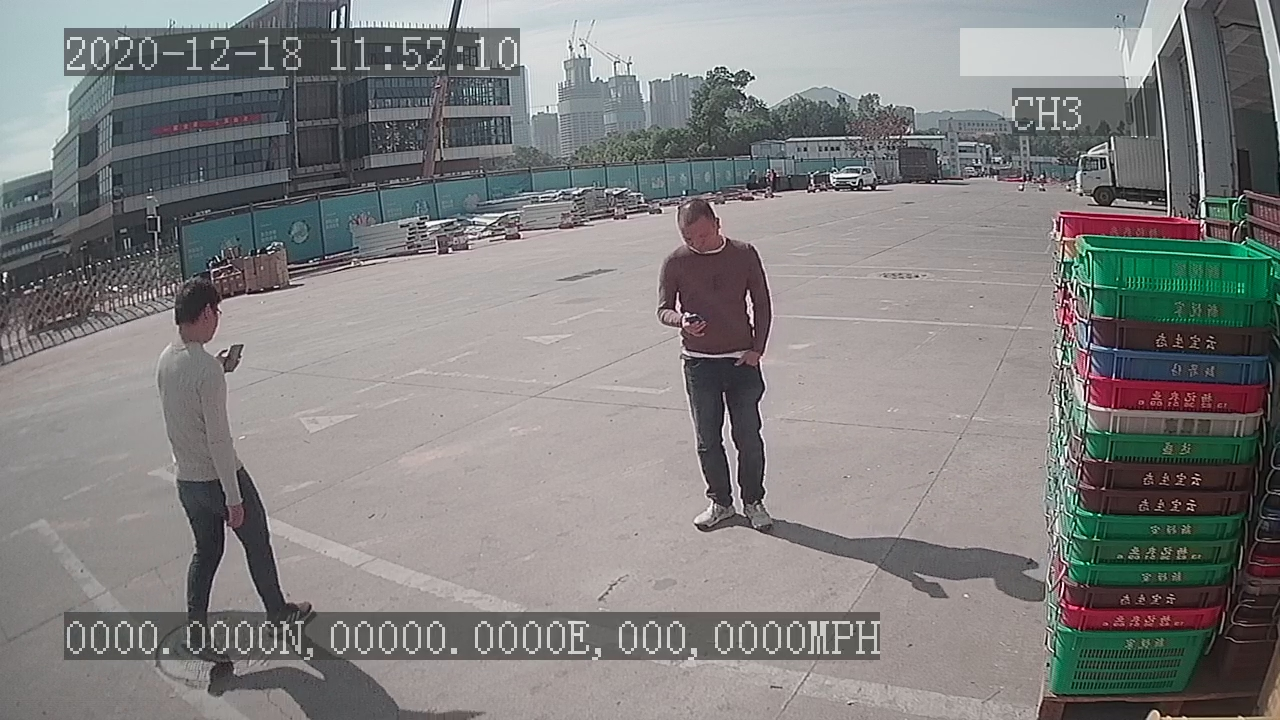person: (651, 188, 783, 540)
